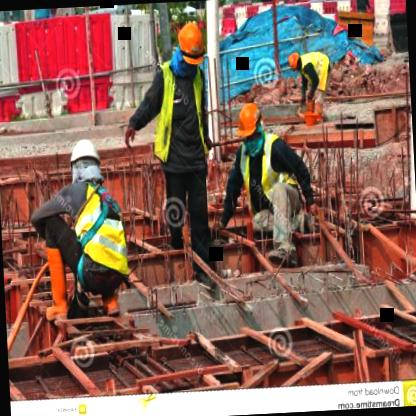helmet: (67, 134, 105, 194), (176, 18, 207, 66), (233, 99, 263, 145), (286, 50, 306, 72)
